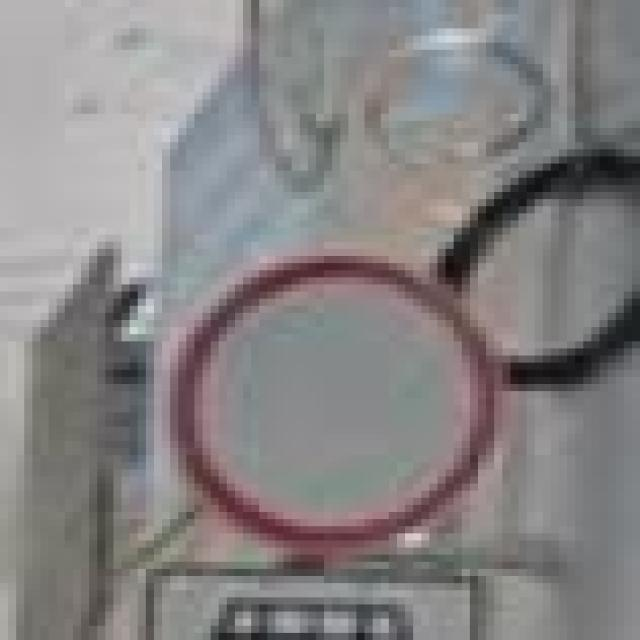no_passing: (170, 249, 502, 547)
